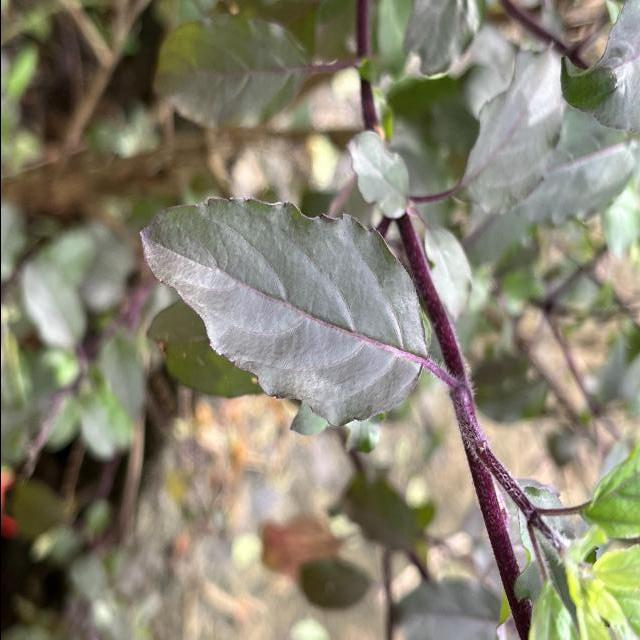Ocimum tenuiflorum: (137, 195, 431, 432)
